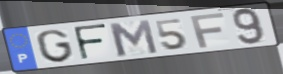5: (153, 17, 189, 51)
9: (232, 7, 267, 47)
F: (71, 23, 110, 62), (188, 11, 226, 49)
G: (34, 28, 76, 64)
M: (106, 18, 161, 58)
